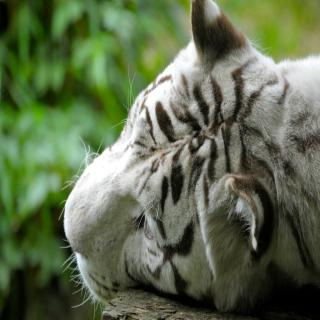Tiger: (58, 0, 320, 320)
